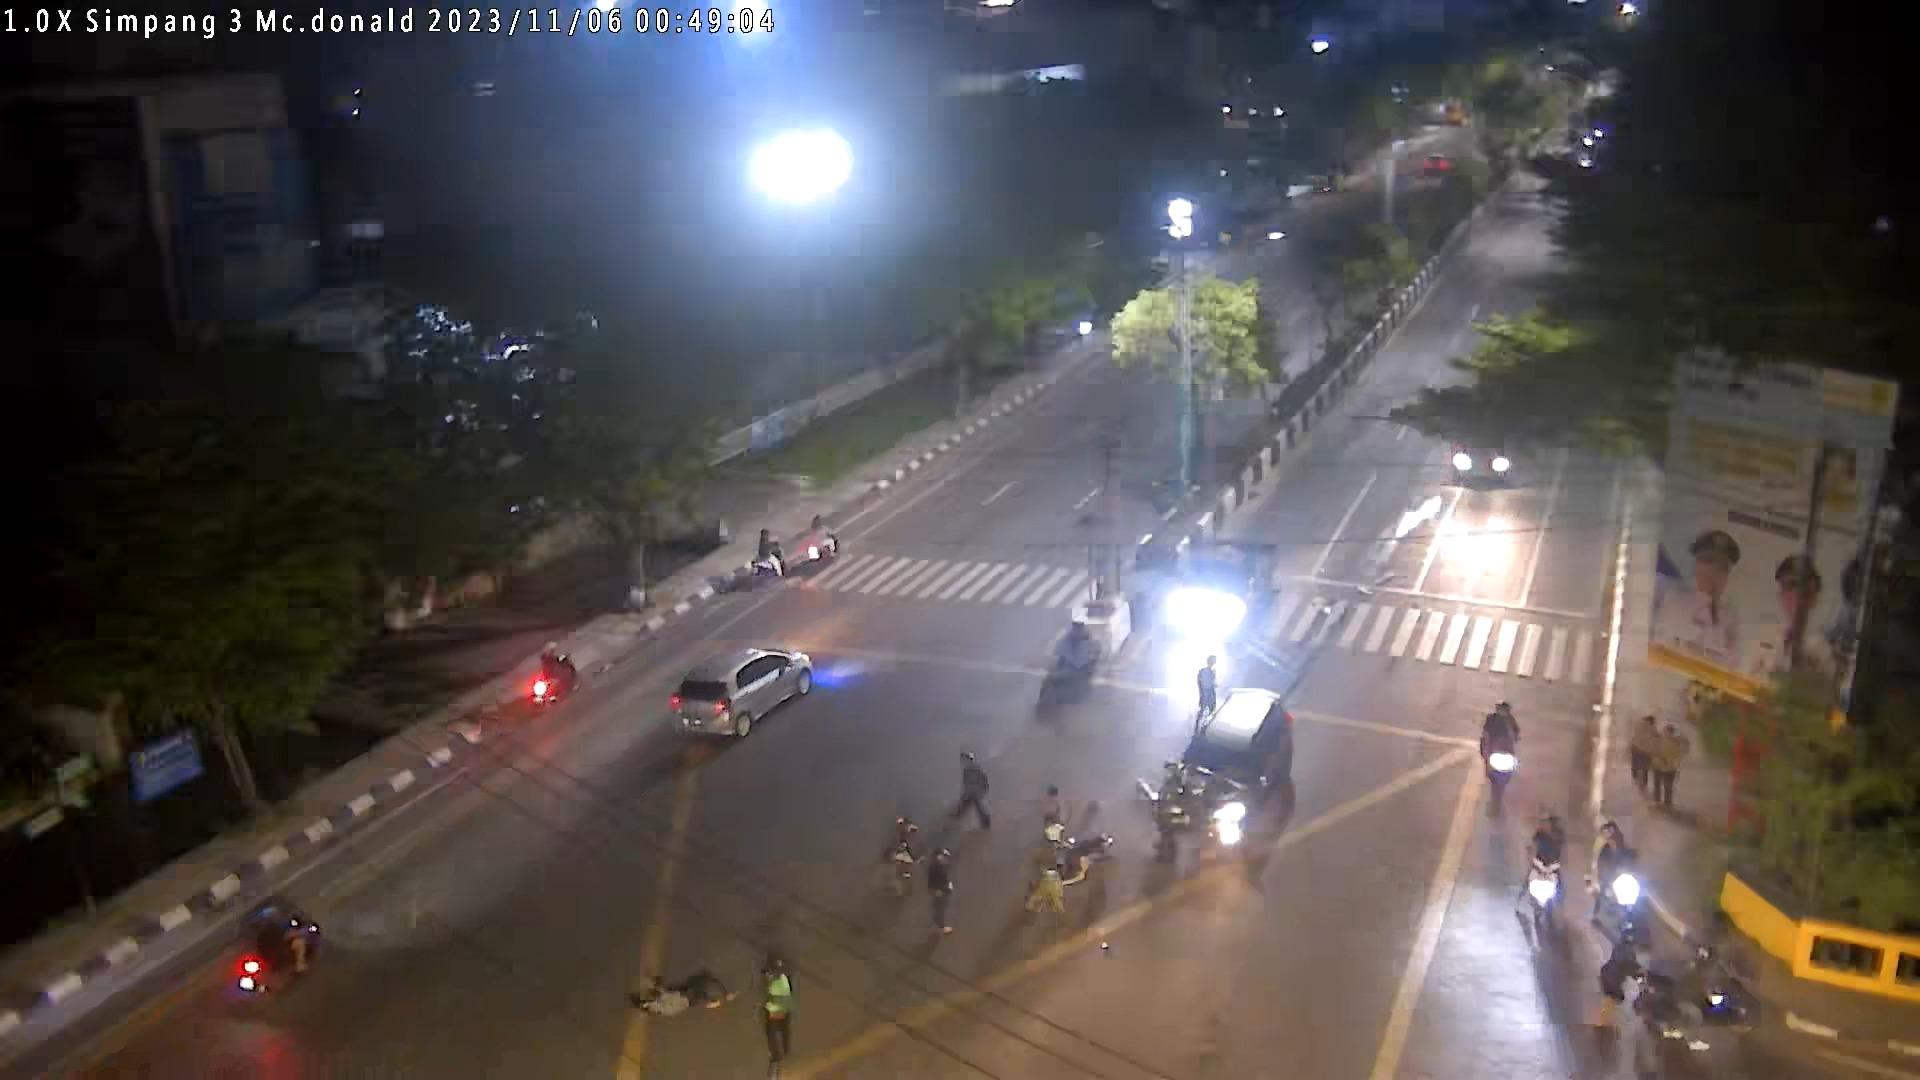accident: (626, 963, 741, 1018)
